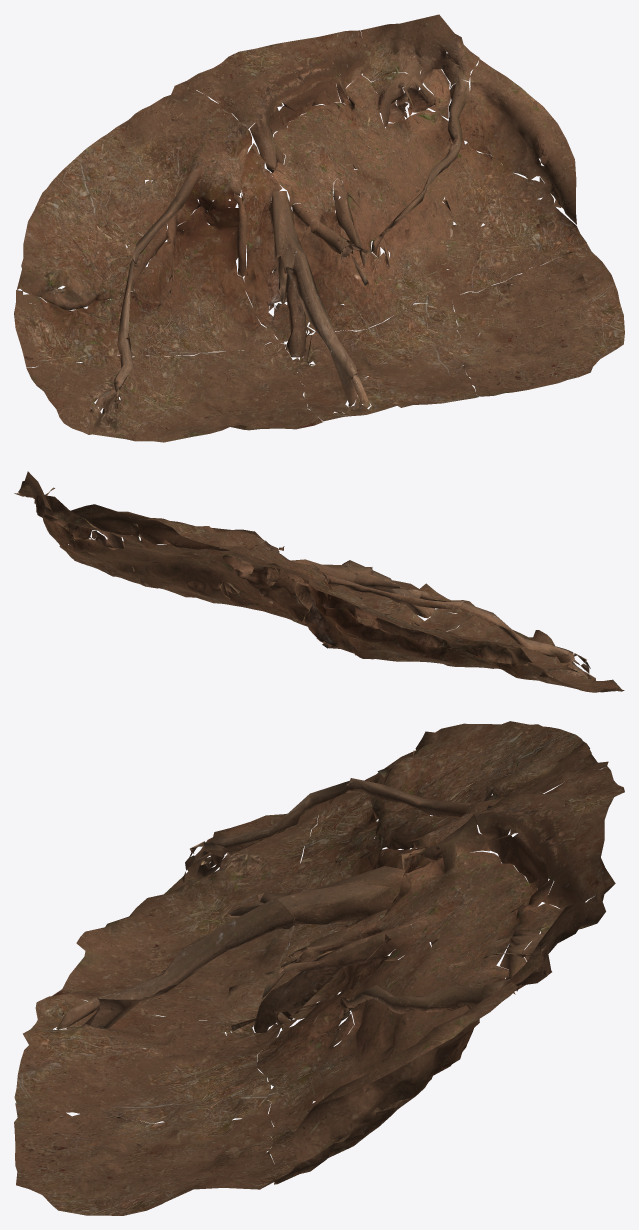
Rendered from kf_root_cluster.glb.
The picture shows the model from 3 angles, top to bottom: view 1: azimuth 30°, elevation 25°; view 2: azimuth 150°, elevation 25°; view 3: azimuth 270°, elevation 25°; orthographic projection. The views are drawn at different scales.
Visible parts, largest first — view 1: root_cluster_01; view 2: root_cluster_01; view 3: root_cluster_01.
Part boxes in pixels (bbox=[...]): root_cluster_01: bbox=[14, 14, 624, 442]; root_cluster_01: bbox=[14, 471, 624, 692]; root_cluster_01: bbox=[14, 721, 624, 1215].
Bounding box in the file's own units: 4.12 × 1.5 × 2.68.
1 material, 1 textured.
